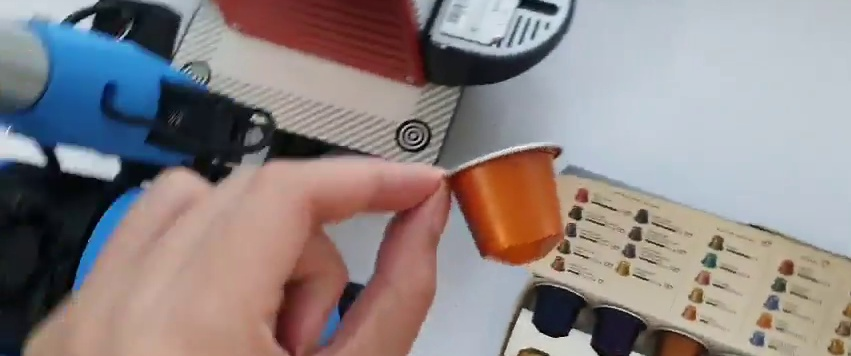capsule_5: (438, 139, 569, 267)
